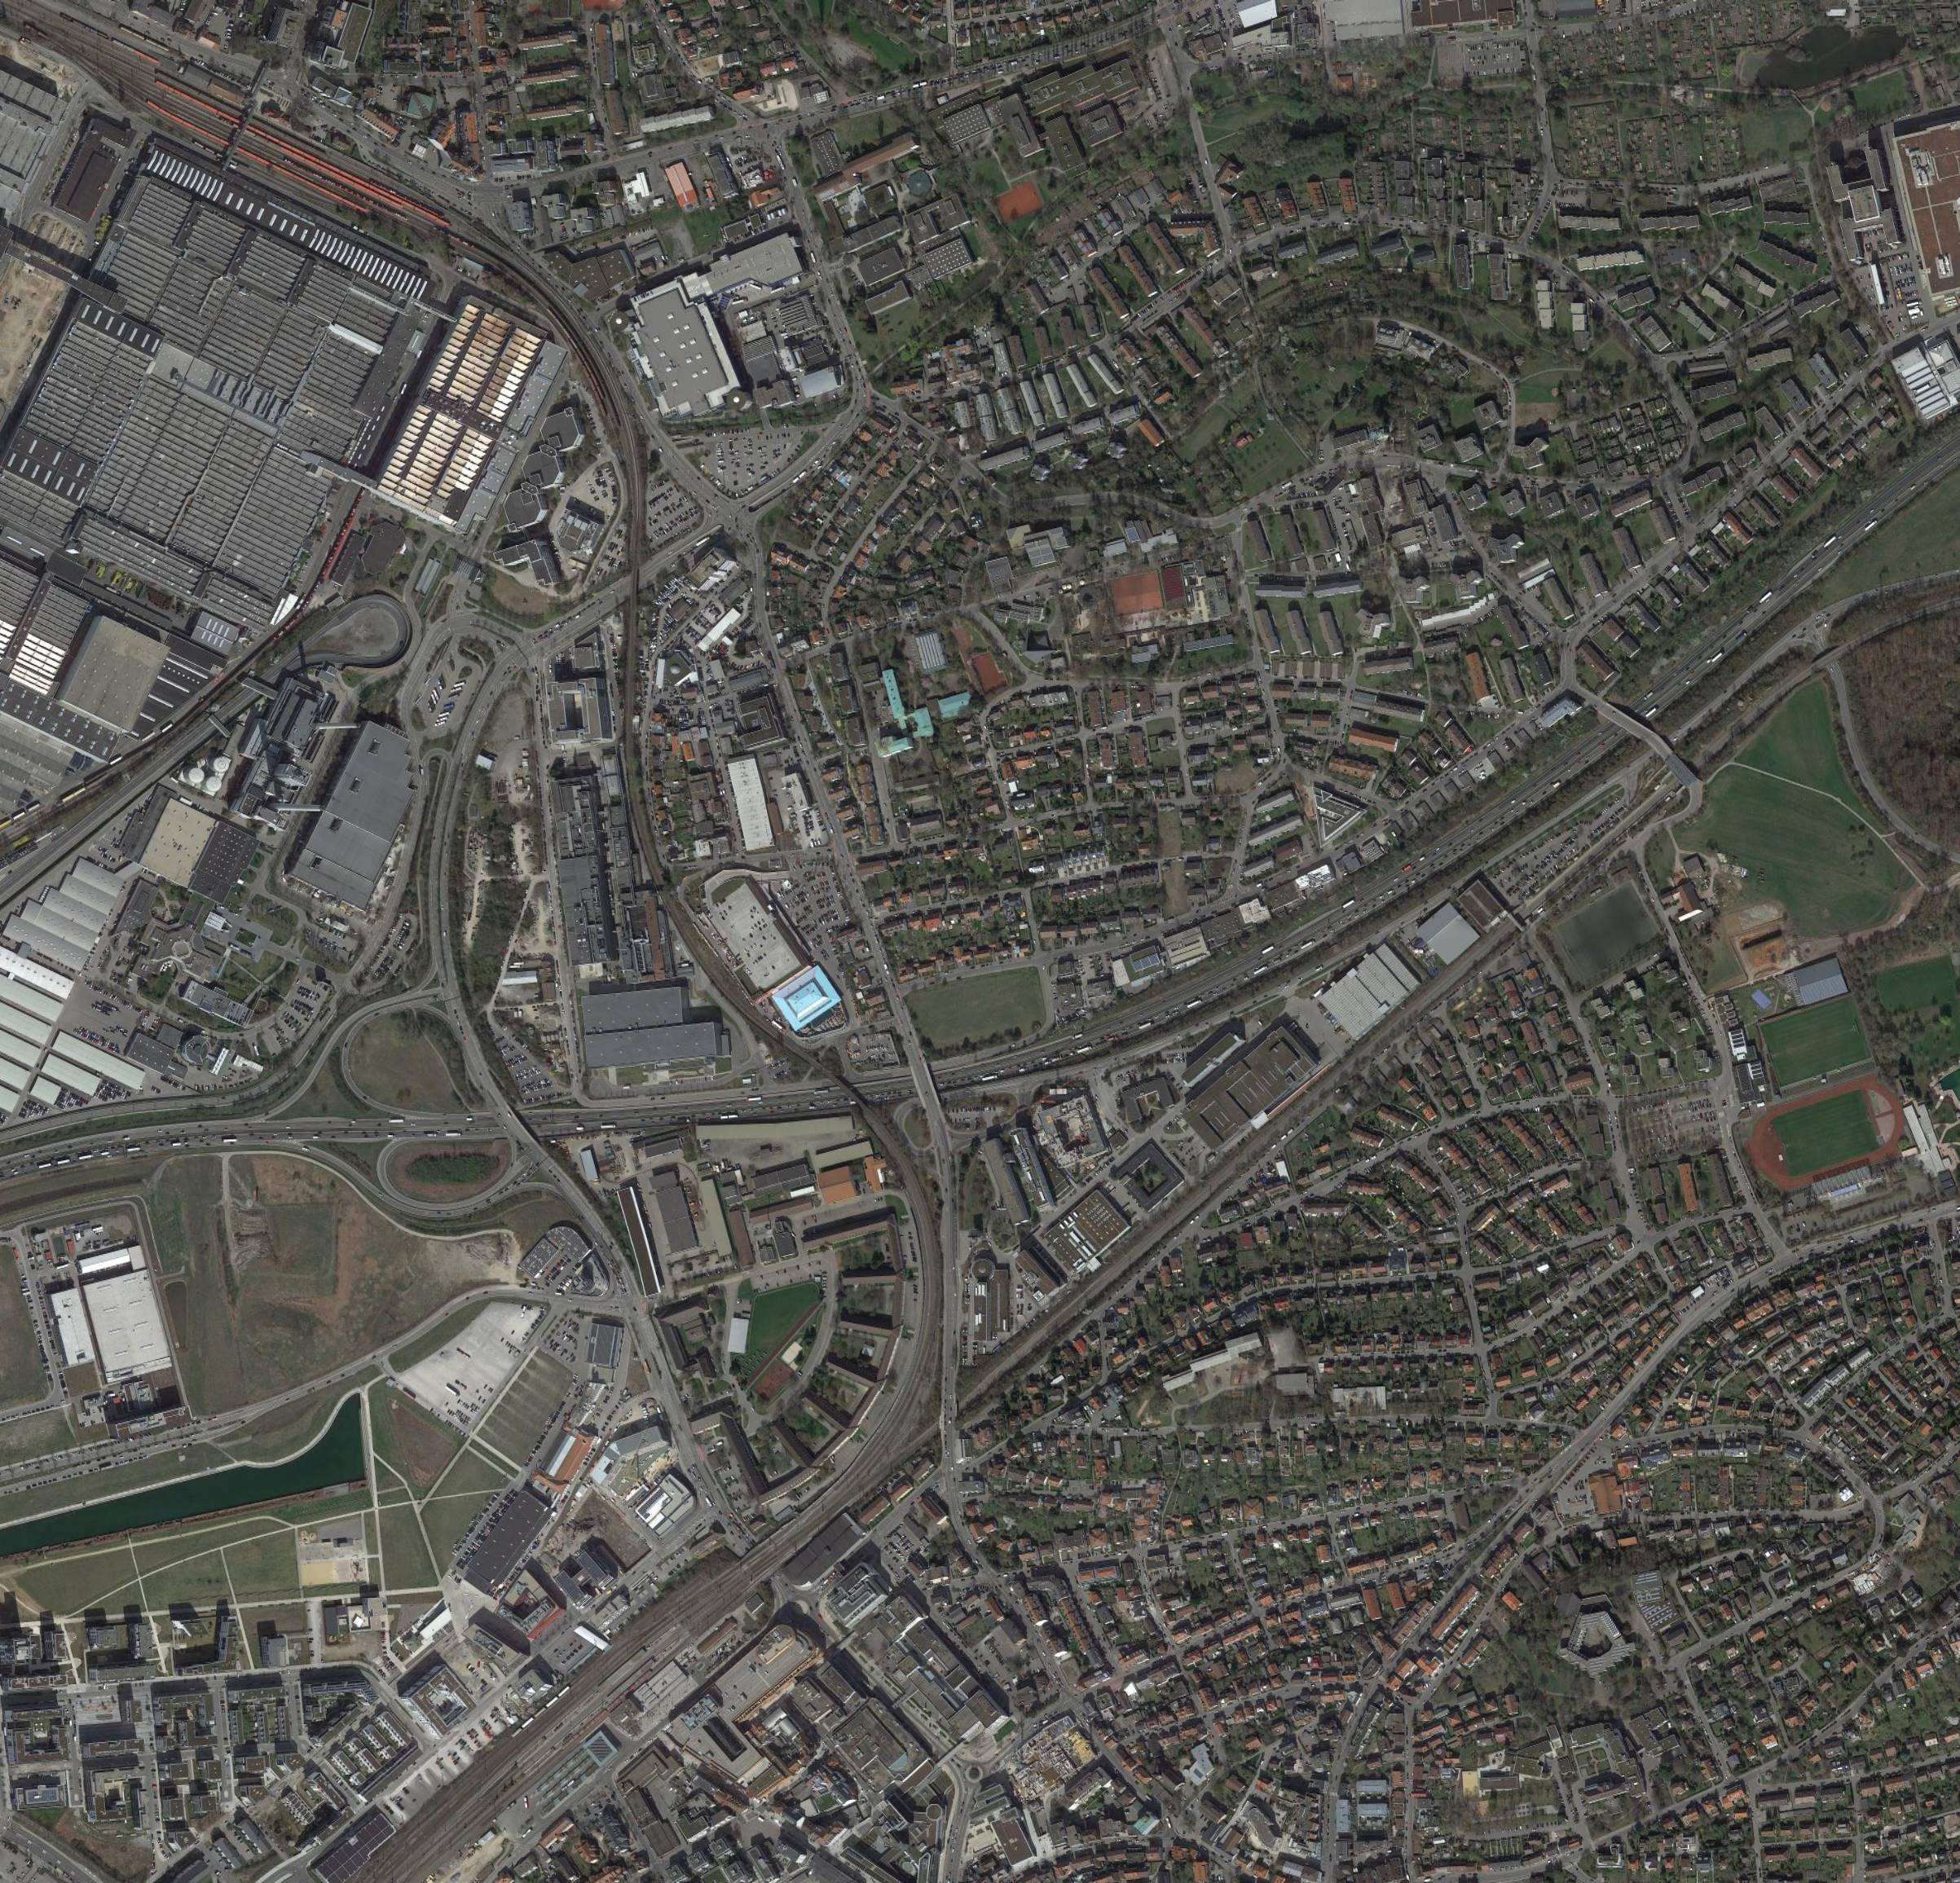ground track field: (1738, 1071, 1911, 1195)
